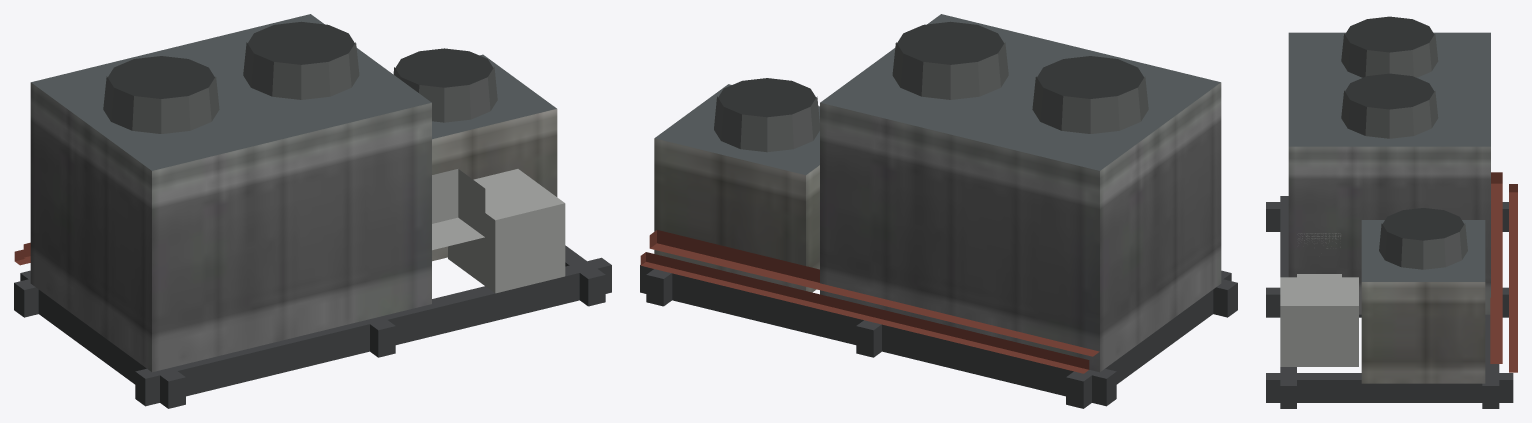
The model's file is nyc_rooftop_mech.glb.
The picture shows the model from 3 angles, left to right: view 1: azimuth 30°, elevation 25°; view 2: azimuth 150°, elevation 25°; view 3: azimuth 270°, elevation 25°; orthographic projection. The views are drawn at different scales.
Visible parts, largest first — view 1: nyc_rooftop_mech; view 2: nyc_rooftop_mech; view 3: nyc_rooftop_mech.
Boxes of the visible parts, bbox=[...] form: nyc_rooftop_mech: bbox=[14, 14, 611, 408]; nyc_rooftop_mech: bbox=[640, 14, 1237, 408]; nyc_rooftop_mech: bbox=[1266, 16, 1517, 408].
Size of the model in its own units: 8 by 4.3 by 4.48.
1 material, 1 textured.
